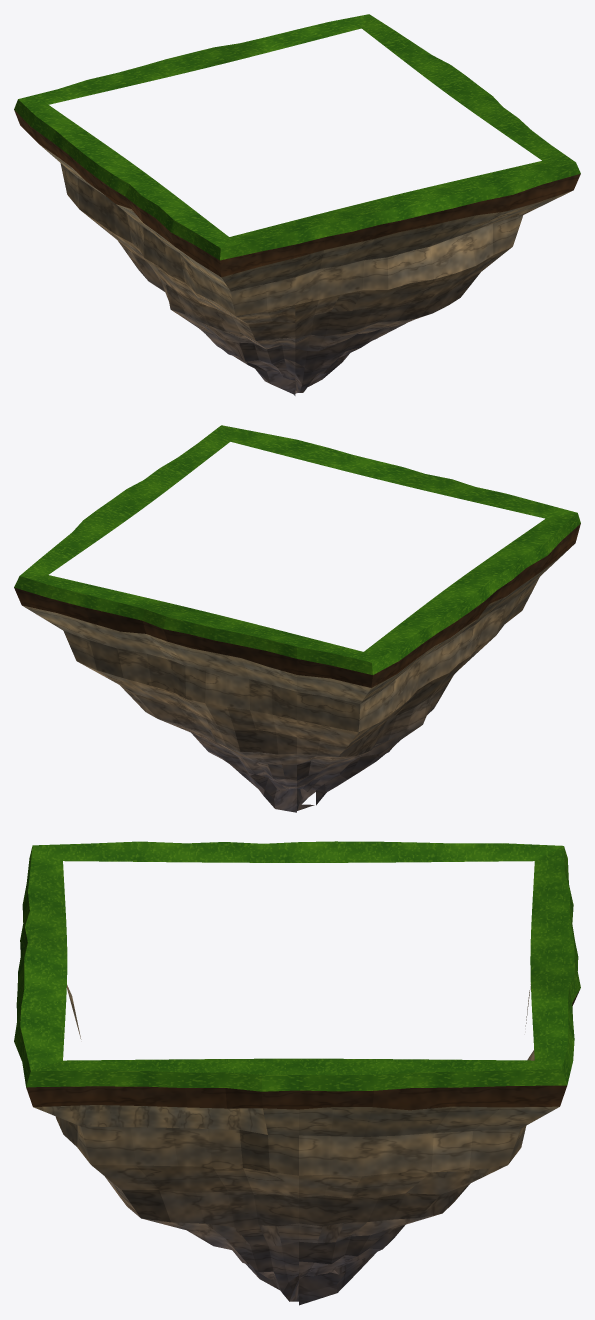
File: island_under_sky_small.glb
3 renders of one model, top to bottom at view 1: azimuth 30°, elevation 25°; view 2: azimuth 150°, elevation 25°; view 3: azimuth 270°, elevation 25°, orthographic. The views are drawn at different scales.
Parts seen in each view (by area): view 1: island_under_sky_small; view 2: island_under_sky_small; view 3: island_under_sky_small.
Part boxes in pixels (x1,y1,x2,y2): island_under_sky_small: (14,14,580,395); island_under_sky_small: (14,425,580,812); island_under_sky_small: (14,841,580,1305).
Size of the model in its own units: 11.46 by 7.78 by 11.51.
Materials: 2 (2 with a texture image).
